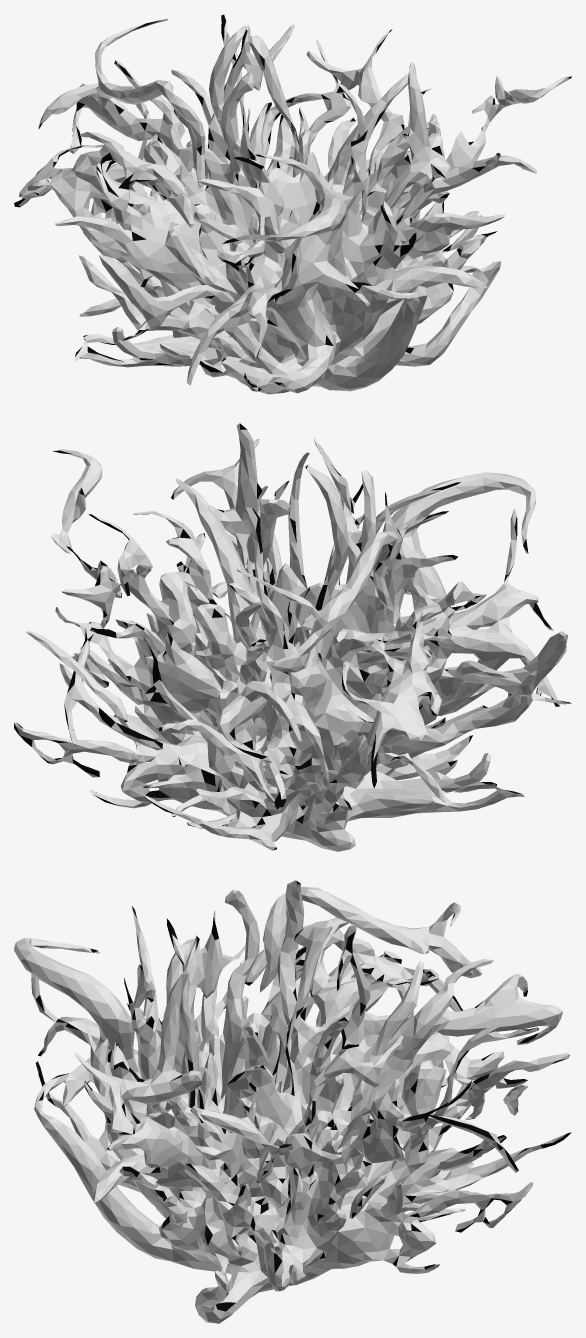
The model's file is grass_tuft01.glb.
3 views of the same model, one above another, from view 1: azimuth 30°, elevation 25°; view 2: azimuth 150°, elevation 25°; view 3: azimuth 270°, elevation 25° (orthographic). The views are drawn at different scales.
Parts seen in each view (by area): view 1: Low; view 2: Low; view 3: Low.
Boxes of the visible parts, <box> form: Low: <box>14,14,571,394</box>; Low: <box>14,423,571,851</box>; Low: <box>14,880,571,1323</box>.
Bounding box in the file's own units: 1.83 × 1.29 × 1.74.
Materials: 1 (1 with a texture image).
